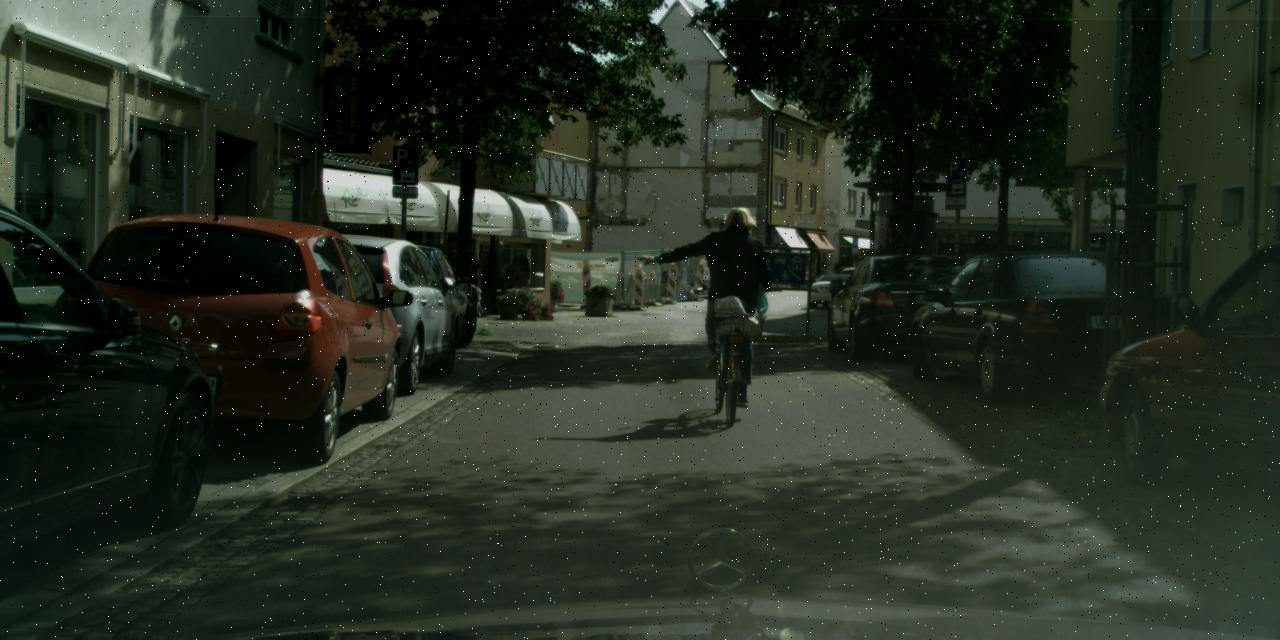ped: (697, 207, 771, 388), (837, 254, 849, 284)
